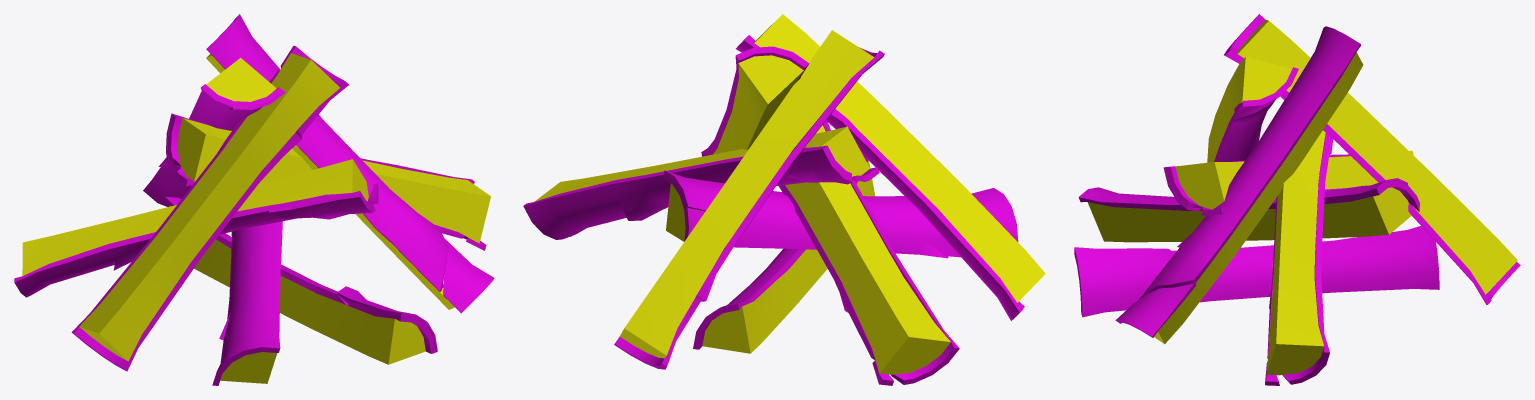
Rendered from F_Firewood_Bonfire.fbx.
The picture shows the model from 3 angles, left to right: view 1: azimuth 30°, elevation 25°; view 2: azimuth 150°, elevation 25°; view 3: azimuth 270°, elevation 25°; orthographic projection. The views are drawn at different scales.
Parts seen in each view (by area): view 1: Object064; view 2: Object064; view 3: Object064.
Boxes of the visible parts, left/top/right/bottom form: Object064: left=14, top=14, right=494, bottom=385; Object064: left=523, top=14, right=1045, bottom=385; Object064: left=1074, top=14, right=1520, bottom=385.
Bounding box in the file's own units: 274 × 155 × 246.
